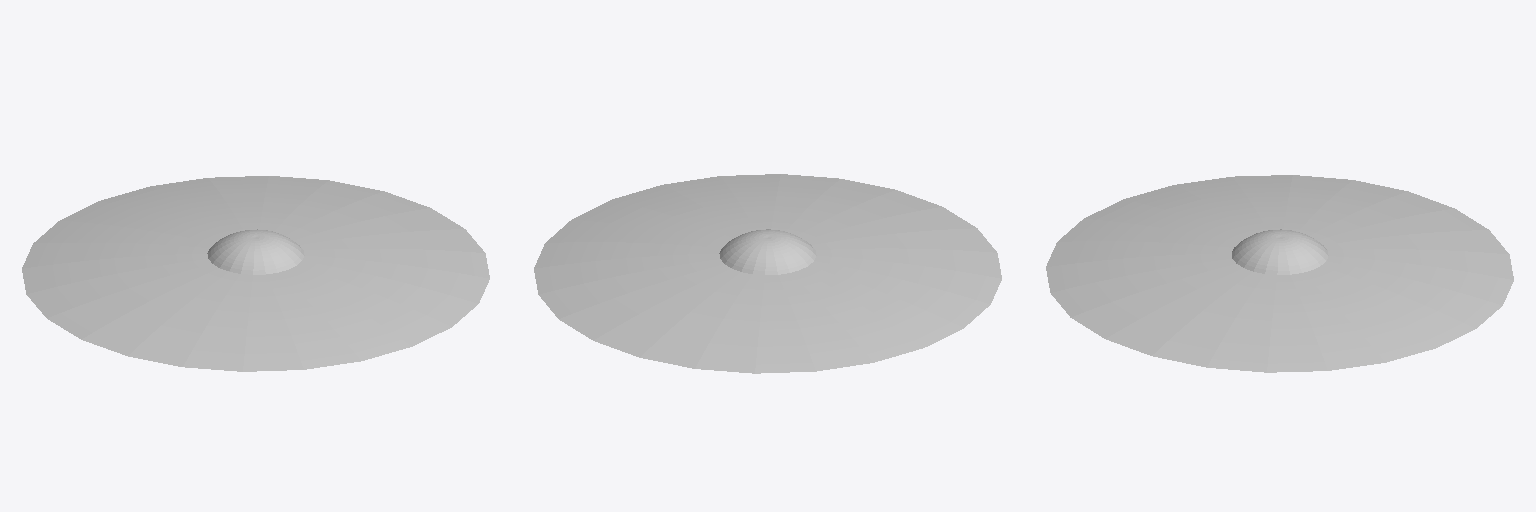
Rendered from Cymbal.obj.
The picture shows the model from 3 angles: view 1: azimuth 30°, elevation 25°; view 2: azimuth 150°, elevation 25°; view 3: azimuth 270°, elevation 25°; orthographic projection.
Parts seen in each view (by area): view 1: Mesh1 Group1 Model; view 2: Mesh1 Group1 Model; view 3: Mesh1 Group1 Model.
Boxes of the visible parts, box(x1,y1,x2,y2) form: Mesh1 Group1 Model: box(22, 176, 489, 371); Mesh1 Group1 Model: box(534, 174, 1001, 373); Mesh1 Group1 Model: box(1046, 175, 1513, 372).
Bounding box in the file's own units: 1.27 × 0.1123 × 1.27.